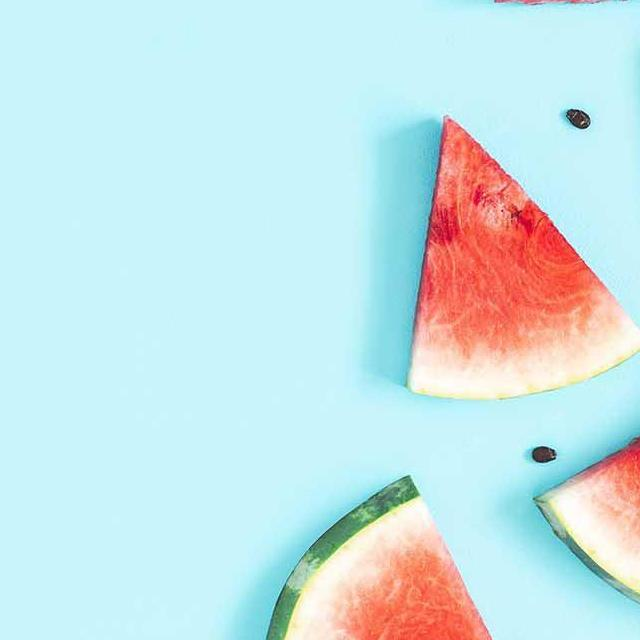watermelon: (402, 113, 640, 404), (262, 472, 525, 640), (532, 378, 640, 640)
